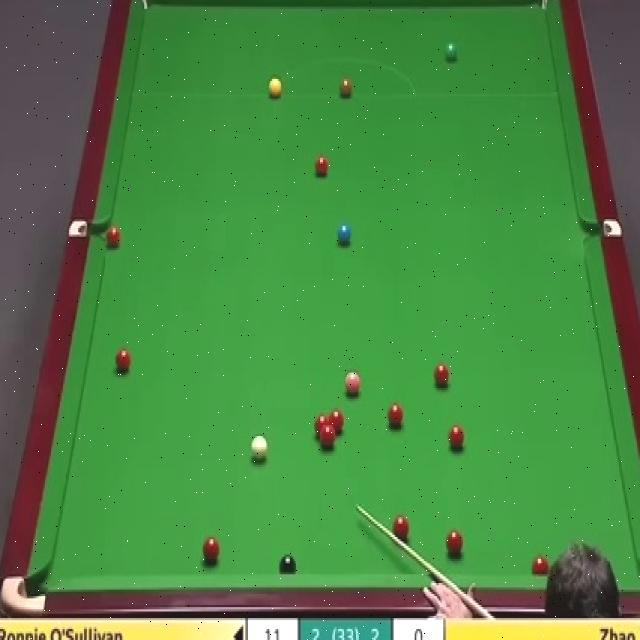black-ball: (278, 554, 296, 575)
blue-ball: (336, 221, 352, 247)
brown-ball: (337, 75, 353, 100)
green-ball: (442, 42, 459, 63)
pink-ball: (344, 367, 362, 396)
red-ball: (432, 361, 451, 392), (114, 346, 132, 376), (202, 536, 220, 564), (445, 530, 463, 558), (392, 514, 409, 542), (105, 222, 121, 251), (447, 422, 464, 449), (313, 152, 330, 178), (387, 402, 403, 429), (329, 409, 345, 436), (532, 554, 550, 576), (315, 414, 329, 436), (321, 428, 335, 449)
white-ball: (247, 431, 267, 467)
yellow-ball: (267, 76, 282, 98)
